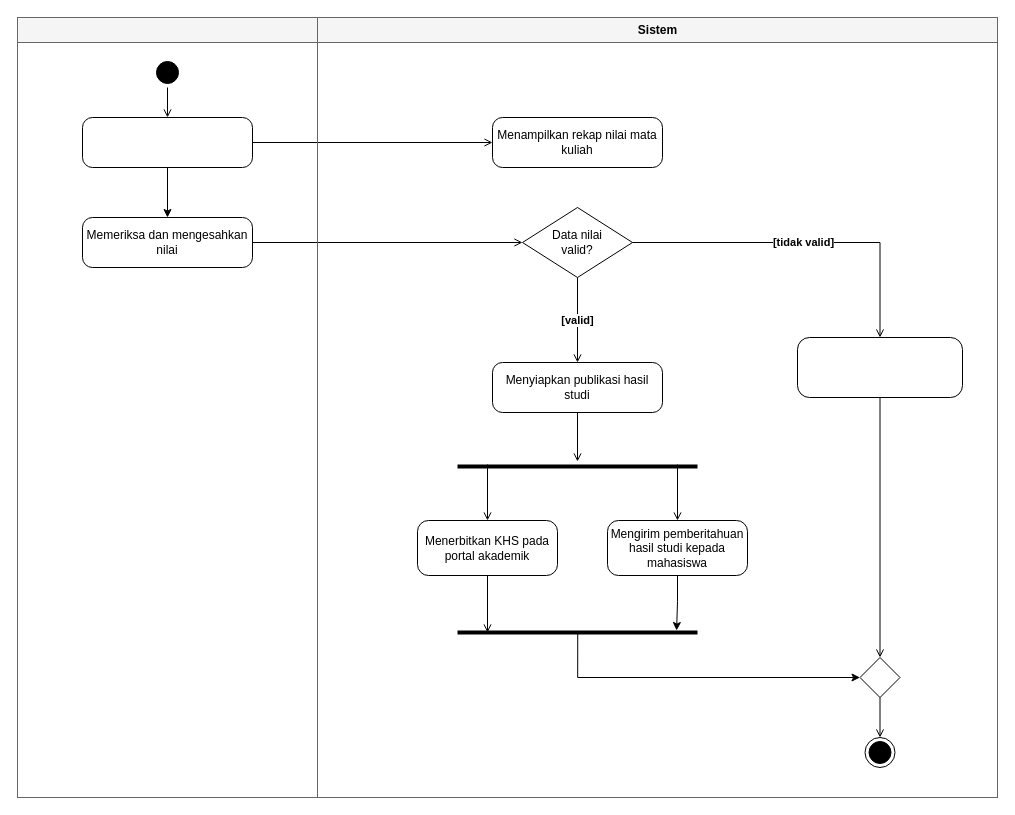
This 1015x815 diagram has some shape labels left out. Here are the shapes that lost their labels. From the top down, the box of each, then its label:
(82, 116, 252, 168): Membuka daftar nilai berstatus Siap Disahkan
(796, 336, 962, 398): Menampilkan pesan nilai belum valid dan mengembalikan ke Dosen
(16, 16, 318, 798): Admin Akademik
